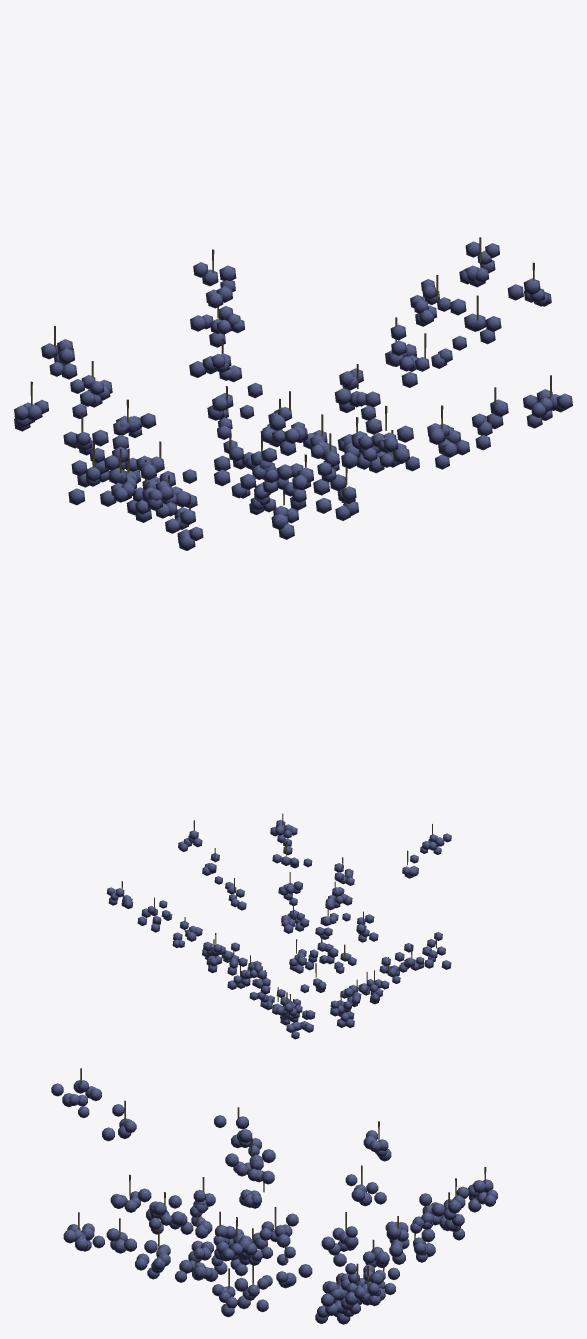
The model's file is dewberryfruit.glb.
3 views of the same model, one above another, from view 1: azimuth 30°, elevation 25°; view 2: azimuth 150°, elevation 25°; view 3: azimuth 270°, elevation 25° (orthographic). The views are drawn at different scales.
Visible parts, largest first — view 1: dewberryfruit; view 2: dewberryfruit; view 3: dewberryfruit.
Part boxes in pixels (left/top/right/bottom): dewberryfruit: left=14, top=237, right=572, bottom=550; dewberryfruit: left=106, top=813, right=451, bottom=1039; dewberryfruit: left=51, top=1068, right=497, bottom=1324.
Size of the model in its own units: 0.8561 by 0.482 by 0.793.
1 material, 1 textured.
